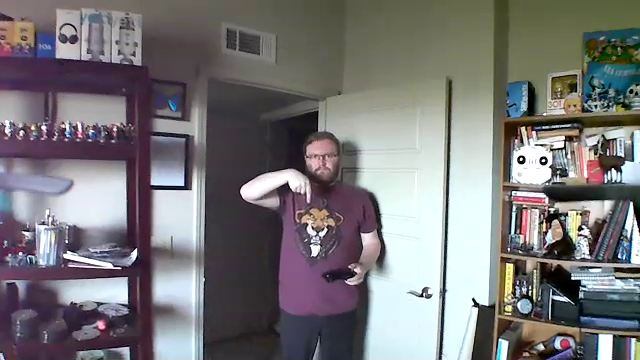down: (284, 160, 315, 204)
